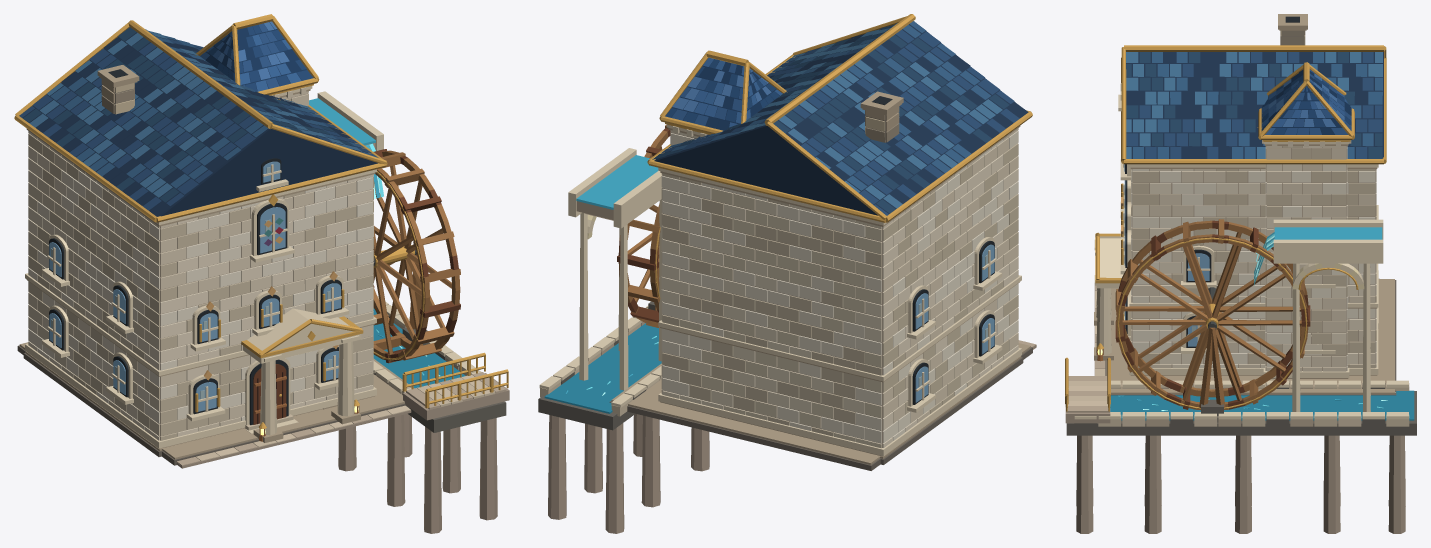
File: watermill-nivel-9.glb
The picture shows the model from 3 angles, left to right: view 1: azimuth 30°, elevation 25°; view 2: azimuth 150°, elevation 25°; view 3: azimuth 270°, elevation 25°; orthographic projection. The views are drawn at different scales.
Visible parts, largest first — view 1: Moinho 09 #e6d7ba, Moinho 09 #20354f, Moinho 09 #ded1b9, Moinho 09 #eae1ce, Moinho 09 #cec1a8, Moinho 09 #e8dcc5, Moinho 09 #d5a452, Moinho 09 #ae9d8b, Aros e pás 1 #9f7145.008, Moinho 09 #b4a38a, Moinho 09 #2d4d71, Moinho 09 #426e90 (+20 smaller); view 2: Moinho 09 #eae1ce, Moinho 09 #ded1b9, Moinho 09 #cec1a8, Moinho 09 #20354f, Moinho 09 #e6d7ba, Moinho 09 #e8dcc5, Moinho 09 #ae9d8b, Moinho 09 #d5a452, Moinho 09 #b4a38a, Moinho 09 #2d4d71, Moinho 09 #426e90, Moinho 09 #284763 (+15 smaller); view 3: Moinho 09 #e6d7ba, Aros e pás 1 #9f7145.008, Moinho 09 #cec1a8, Moinho 09 #ded1b9, Moinho 09 #ae9d8b, Moinho 09 #eae1ce, Moinho 09 #20354f, Moinho 09 #d5a452, Moinho 09 #e8dcc5, Moinho 09 #b4a38a, Moinho 09 #6a665e, Moinho 09 #256477 (+20 smaller).
Part boxes in pixels (bbox=[...]): Moinho 09 #e6d7ba: bbox=[25, 86, 481, 448]; Moinho 09 #20354f: bbox=[22, 32, 377, 216]; Moinho 09 #ded1b9: bbox=[28, 87, 373, 435]; Moinho 09 #eae1ce: bbox=[28, 170, 373, 423]; Moinho 09 #cec1a8: bbox=[28, 98, 373, 440]; Moinho 09 #e8dcc5: bbox=[28, 131, 373, 440]; Moinho 09 #d5a452: bbox=[14, 14, 508, 428]; Moinho 09 #ae9d8b: bbox=[176, 373, 509, 533]; Aros e pás 1 #9f7145.008: bbox=[373, 150, 460, 361]; Moinho 09 #b4a38a: bbox=[19, 65, 414, 459]; Moinho 09 #2d4d71: bbox=[19, 33, 371, 210]; Moinho 09 #426e90: bbox=[29, 29, 361, 197]; Moinho 09 #eae1ce: bbox=[661, 131, 1018, 443]; Moinho 09 #ded1b9: bbox=[661, 126, 1018, 448]; Moinho 09 #cec1a8: bbox=[661, 143, 1018, 436]; Moinho 09 #20354f: bbox=[654, 21, 1028, 215]; Moinho 09 #e6d7ba: bbox=[539, 124, 1021, 456]; Moinho 09 #e8dcc5: bbox=[661, 130, 1018, 447]; Moinho 09 #ae9d8b: bbox=[548, 345, 1036, 533]; Moinho 09 #d5a452: bbox=[647, 14, 1032, 222]; Moinho 09 #b4a38a: bbox=[611, 91, 1030, 464]; Moinho 09 #2d4d71: bbox=[661, 29, 1019, 215]; Moinho 09 #426e90: bbox=[739, 23, 1002, 208]; Moinho 09 #284763: bbox=[652, 25, 1009, 213]; Moinho 09 #e6d7ba: bbox=[1074, 83, 1408, 419]; Aros e pás 1 #9f7145.008: bbox=[1115, 219, 1308, 410]; Moinho 09 #cec1a8: bbox=[1131, 146, 1376, 368]; Moinho 09 #ded1b9: bbox=[1131, 140, 1375, 371]; Moinho 09 #ae9d8b: bbox=[1065, 286, 1405, 533]; Moinho 09 #eae1ce: bbox=[1131, 147, 1376, 370]; Moinho 09 #20354f: bbox=[1126, 52, 1383, 158]; Moinho 09 #d5a452: bbox=[1065, 45, 1386, 411]; Moinho 09 #e8dcc5: bbox=[1131, 146, 1376, 368]; Moinho 09 #b4a38a: bbox=[1094, 14, 1394, 394]; Moinho 09 #6a665e: bbox=[1066, 383, 1416, 435]; Moinho 09 #256477: bbox=[1110, 390, 1414, 420].
Bounding box in the file's own units: 9.71 × 12.55 × 9.82.
